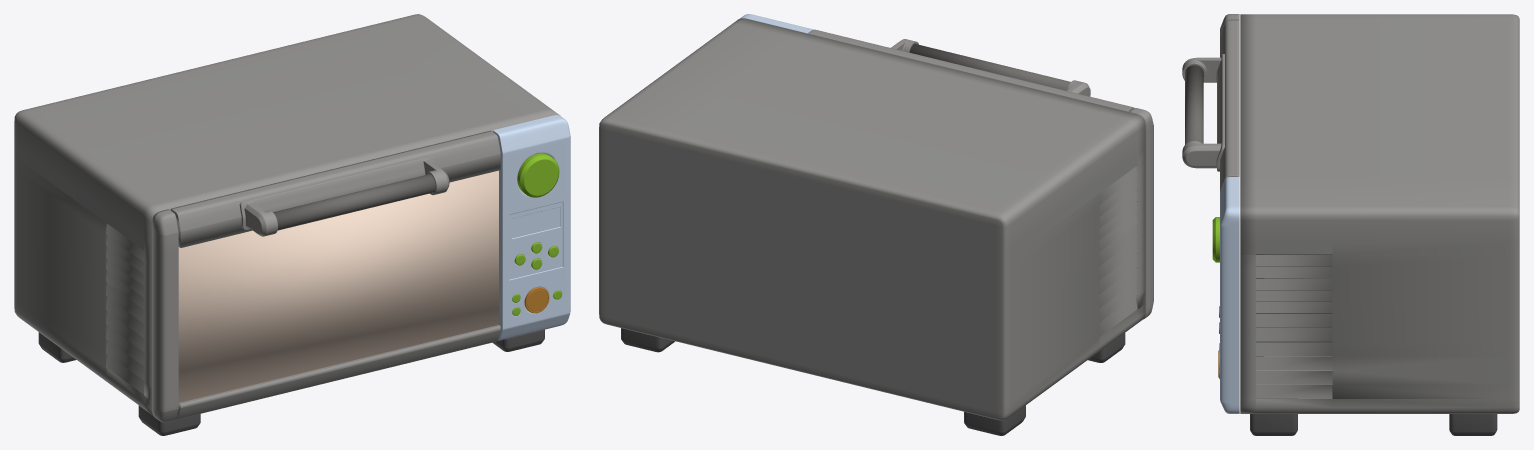
File: Microwave.glb
The picture shows the model from 3 angles, left to right: view 1: azimuth 30°, elevation 25°; view 2: azimuth 150°, elevation 25°; view 3: azimuth 270°, elevation 25°; orthographic projection.
Parts seen in each view (by area): view 1: cgaxis_models_116_06_obj_microwave; view 2: cgaxis_models_116_06_obj_microwave; view 3: cgaxis_models_116_06_obj_microwave.
Part boxes in pixels (bbox=[...]): cgaxis_models_116_06_obj_microwave: bbox=[14, 14, 570, 435]; cgaxis_models_116_06_obj_microwave: bbox=[599, 14, 1153, 435]; cgaxis_models_116_06_obj_microwave: bbox=[1182, 14, 1519, 435].
Size of the model in its own units: 4.39 by 2.37 by 3.13.
